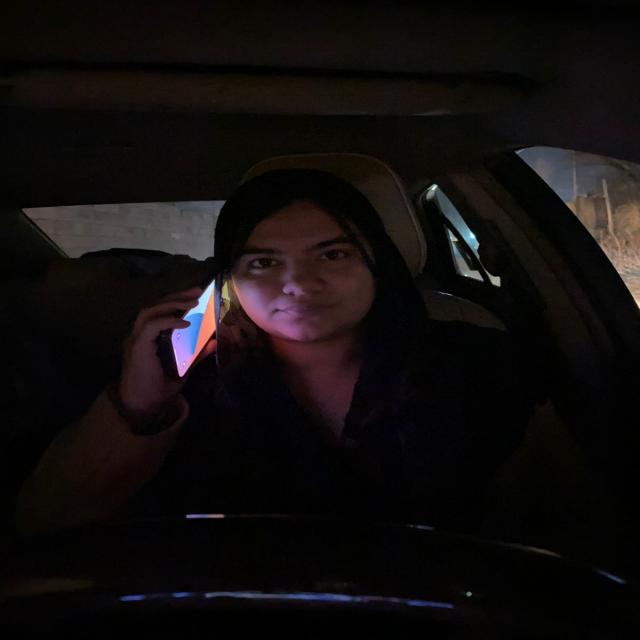mobile: (158, 265, 236, 383)
person: (210, 174, 400, 358)
